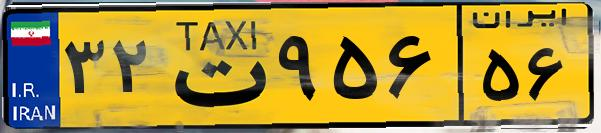2: (110, 28, 158, 98)
3: (57, 26, 110, 100)
5: (330, 28, 385, 110), (475, 38, 525, 113)
6: (385, 28, 445, 110), (525, 38, 570, 115)
9: (270, 28, 330, 110)
ت: (158, 12, 270, 120)
